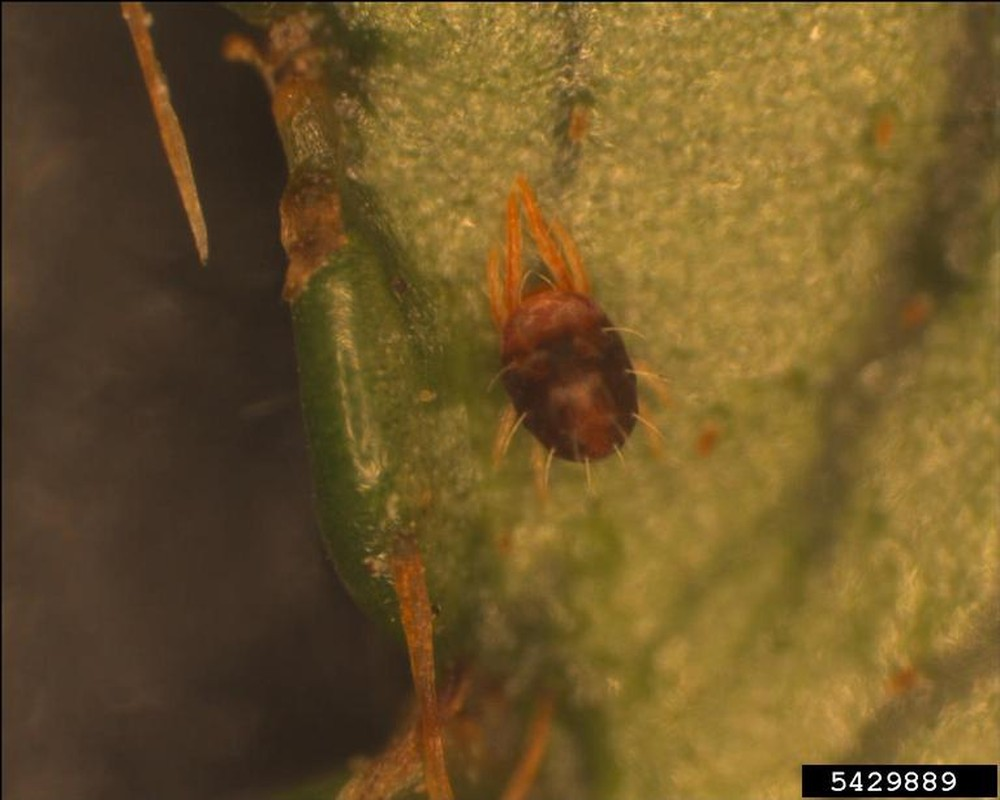Aracnido Rojo: (450, 171, 694, 501)
